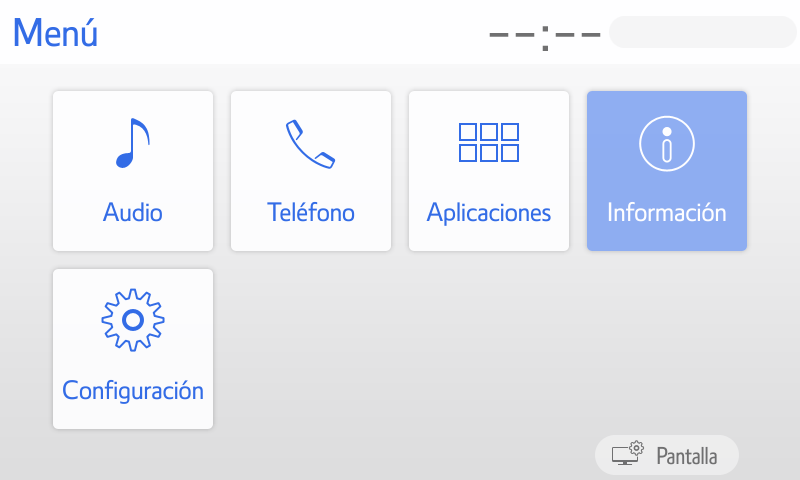touchPart: (583, 84, 750, 269), (46, 262, 220, 439), (227, 83, 392, 258), (404, 85, 570, 255), (51, 86, 217, 253), (588, 426, 747, 473)
untouchPart: (455, 8, 800, 52), (9, 5, 120, 55)
